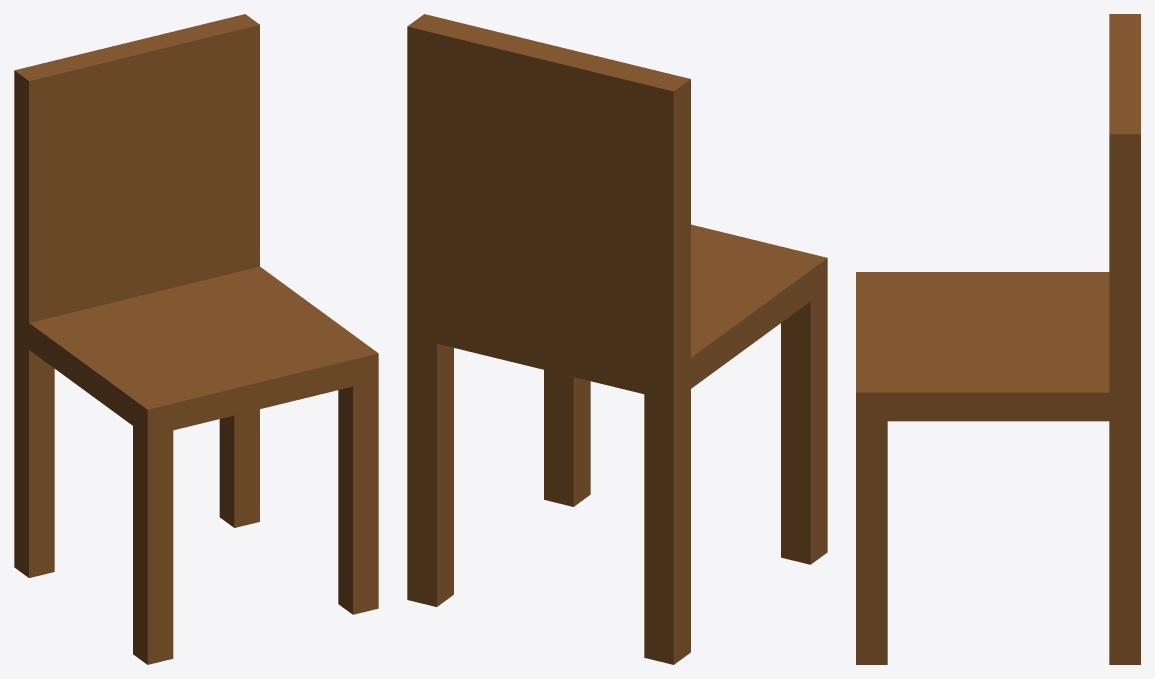
The model's file is chair.glb.
The picture shows the model from 3 angles, left to right: view 1: azimuth 30°, elevation 25°; view 2: azimuth 150°, elevation 25°; view 3: azimuth 270°, elevation 25°; orthographic projection. The views are drawn at different scales.
Size of the model in its own units: 0.45 by 0.925 by 0.45.
